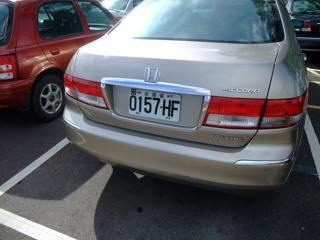plate: (126, 89, 182, 124)
